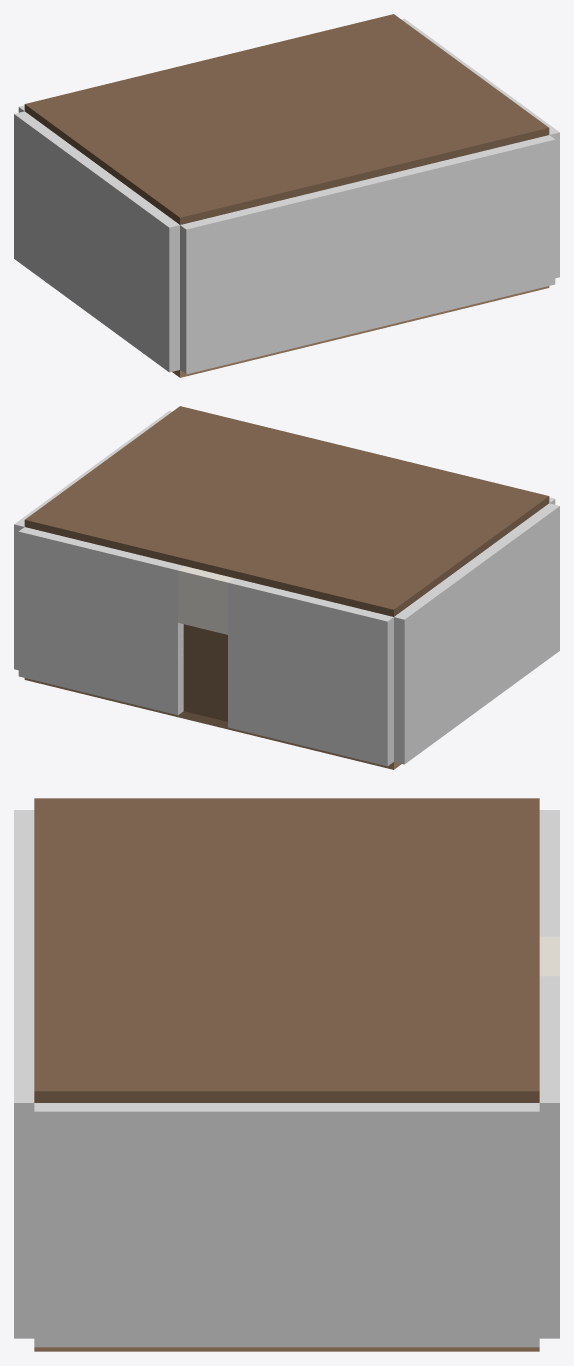
File: farmhouse_interior.glb
The picture shows the model from 3 angles, top to bottom: view 1: azimuth 30°, elevation 25°; view 2: azimuth 150°, elevation 25°; view 3: azimuth 270°, elevation 25°; orthographic projection. The views are drawn at different scales.
Parts seen in each view (by area): view 1: Ceiling_Planks, int_wall_north-col, int_wall_west-col, int_wall_east-col, Floor_Boards; view 2: Ceiling_Planks, int_wall_west-col, int_wall_south_l-col, int_wall_south_r-col, exit_door_leaf, Wall_South_Top, int_wall_east-col, Floor_Boards; view 3: Ceiling_Planks, int_wall_east-col, int_wall_north-col, int_wall_south_r-col, int_wall_south_l-col, Floor_Boards, Wall_South_Top.
Boxes of the visible parts, x1,y1,x2,y2 form: Ceiling_Planks: [24, 14, 549, 224]; int_wall_north-col: [180, 135, 555, 374]; int_wall_west-col: [14, 111, 179, 372]; int_wall_east-col: [401, 18, 559, 278]; Floor_Boards: [172, 286, 549, 377]; Ceiling_Planks: [24, 406, 549, 616]; int_wall_west-col: [394, 503, 559, 764]; int_wall_south_l-col: [228, 578, 393, 766]; int_wall_south_r-col: [18, 527, 183, 715]; exit_door_leaf: [183, 624, 227, 721]; Wall_South_Top: [178, 566, 233, 634]; int_wall_east-col: [14, 410, 172, 670]; Floor_Boards: [24, 678, 401, 769]; Ceiling_Planks: [34, 798, 539, 1102]; int_wall_east-col: [34, 1103, 539, 1347]; int_wall_north-col: [14, 810, 34, 1338]; int_wall_south_r-col: [539, 976, 559, 1338]; int_wall_south_l-col: [539, 810, 559, 936]; Floor_Boards: [34, 1347, 539, 1351]; Wall_South_Top: [539, 936, 559, 976].
Bounding box in the file's own units: 10.16 × 3.98 × 7.56.
